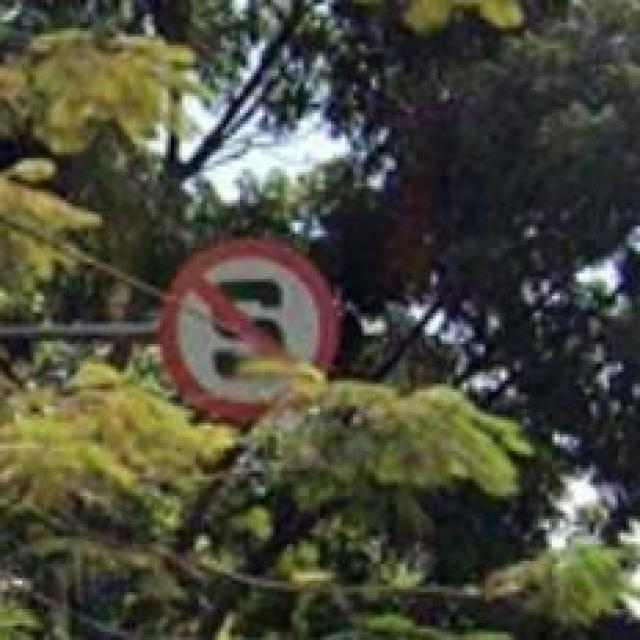traffic sign: (160, 237, 336, 426)
